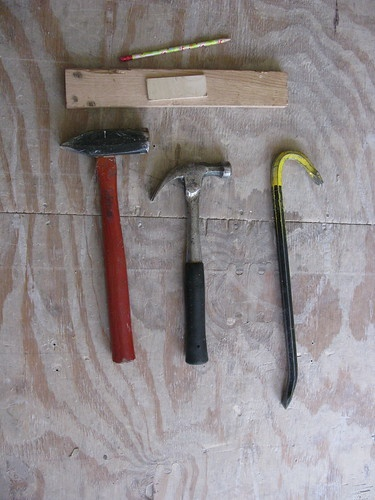hammer: (58, 126, 151, 364), (152, 160, 230, 367)
